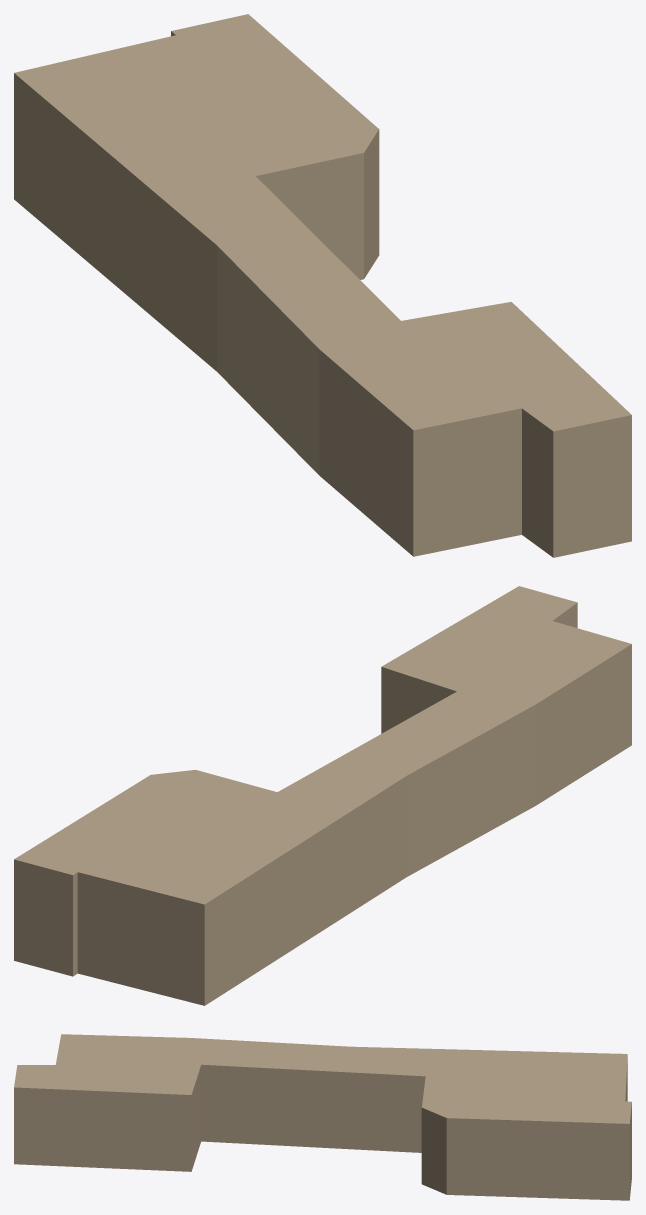
File: bld_98768127.dae
3 views of the same model, one above another, from view 1: azimuth 30°, elevation 25°; view 2: azimuth 150°, elevation 25°; view 3: azimuth 270°, elevation 25° (orthographic). The views are drawn at different scales.
Visible parts, largest first — view 1: The Kings Head Centre; view 2: The Kings Head Centre; view 3: The Kings Head Centre.
Part boxes in pixels (left/top/right/bottom): The Kings Head Centre: left=14, top=14, right=631, bottom=557; The Kings Head Centre: left=14, top=586, right=631, bottom=1005; The Kings Head Centre: left=14, top=1034, right=631, bottom=1200.
Size of the model in its own units: 20.04 by 58.33 by 8.
